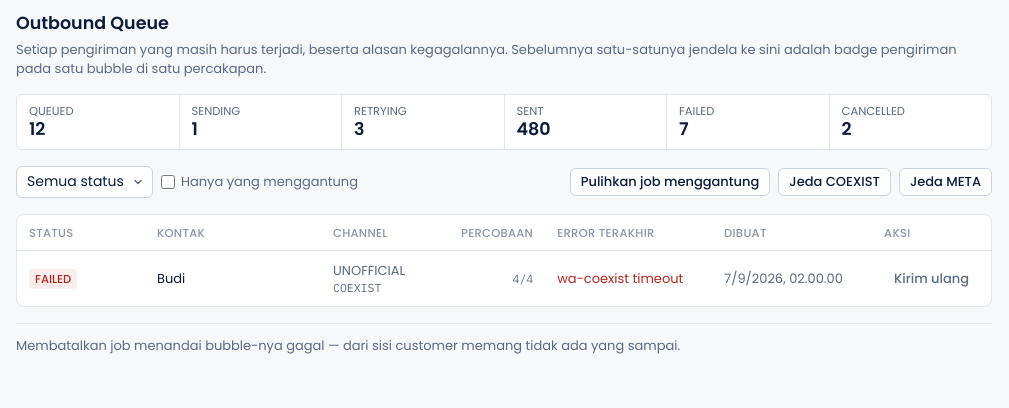
Test: OutboundQueuePage › reports "0 dipulihkan" as a real answer rather than silence
The image size is (1009, 408).
Click the button "Pulihkan job menggantung".
click(670, 182)  # box top-left (570, 168), bottom-right (770, 196)
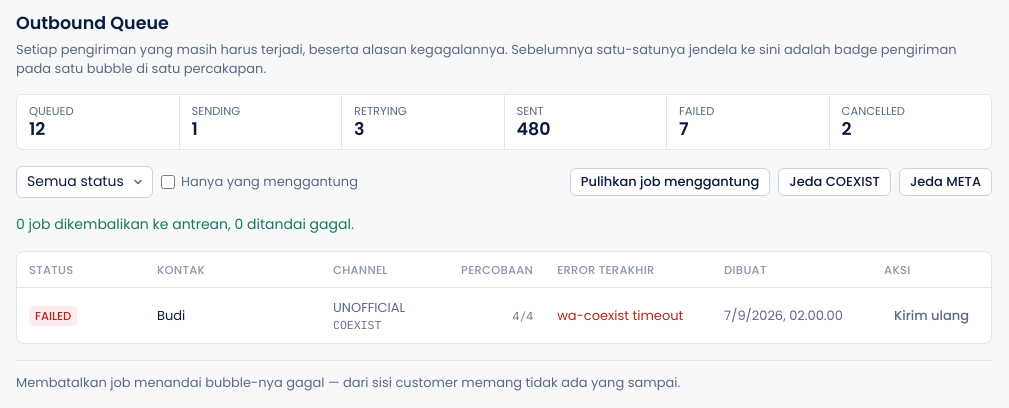
Expected: the text "0 job dikembalikan ke antrean, 0 ditandai gagal." is shown, top-left (16, 214), bottom-right (354, 234)
